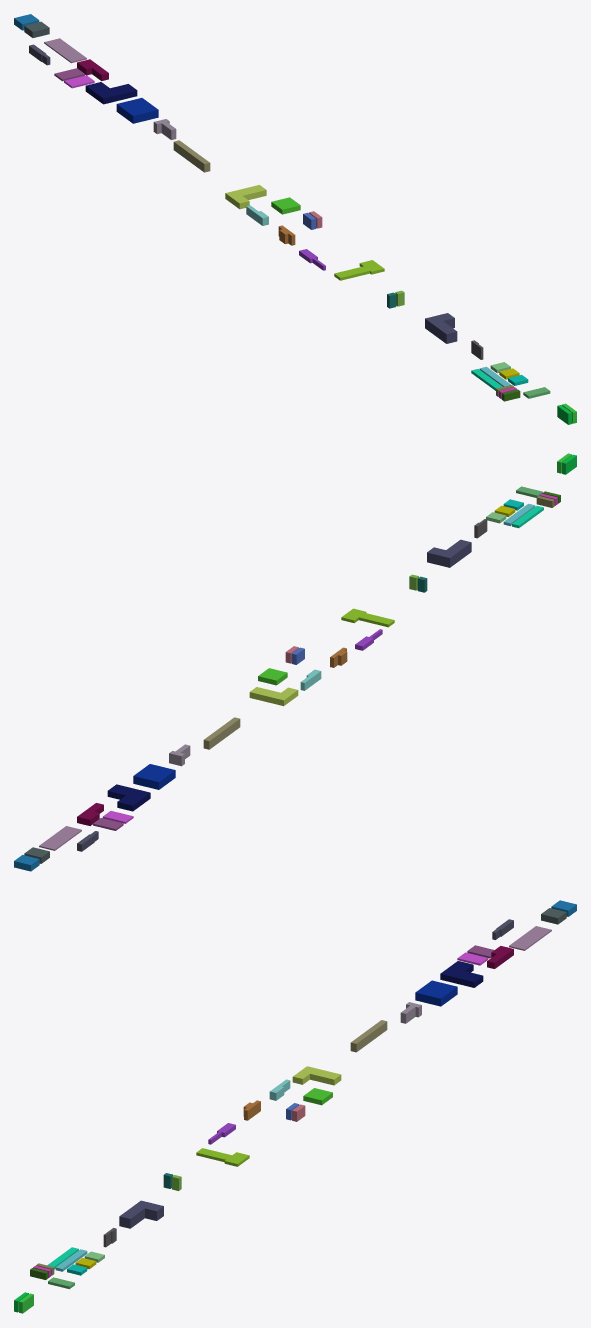
The model's file is SM_ShipTraffic_A.FBX.
The picture shows the model from 3 angles, top to bottom: view 1: azimuth 30°, elevation 25°; view 2: azimuth 150°, elevation 25°; view 3: azimuth 330°, elevation 25°; orthographic projection.
Visible parts, largest first — view 1: uvlayout7; view 2: uvlayout7; view 3: uvlayout7.
Boxes of the visible parts, x1,y1,x2,y2 form: uvlayout7: [14, 14, 576, 424]; uvlayout7: [14, 453, 576, 871]; uvlayout7: [14, 900, 576, 1313].
Size of the model in its own units: 49.37 by 12.47 by 988.
